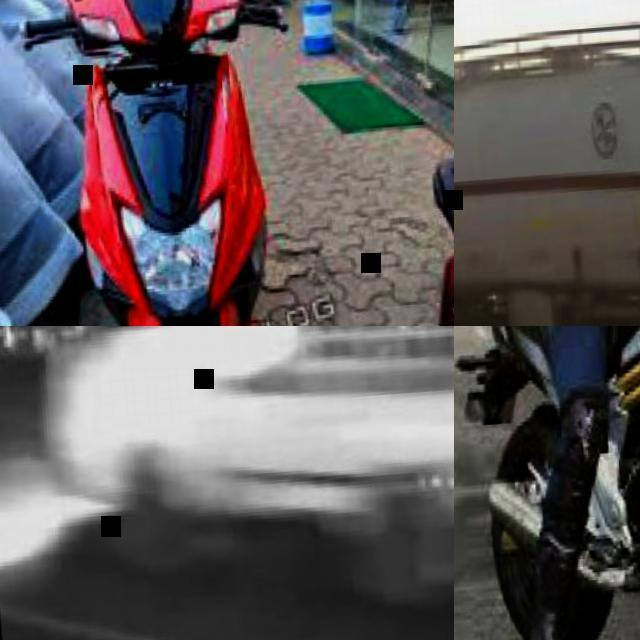car: (3, 2, 268, 325), (456, 327, 557, 423), (237, 0, 289, 32)
